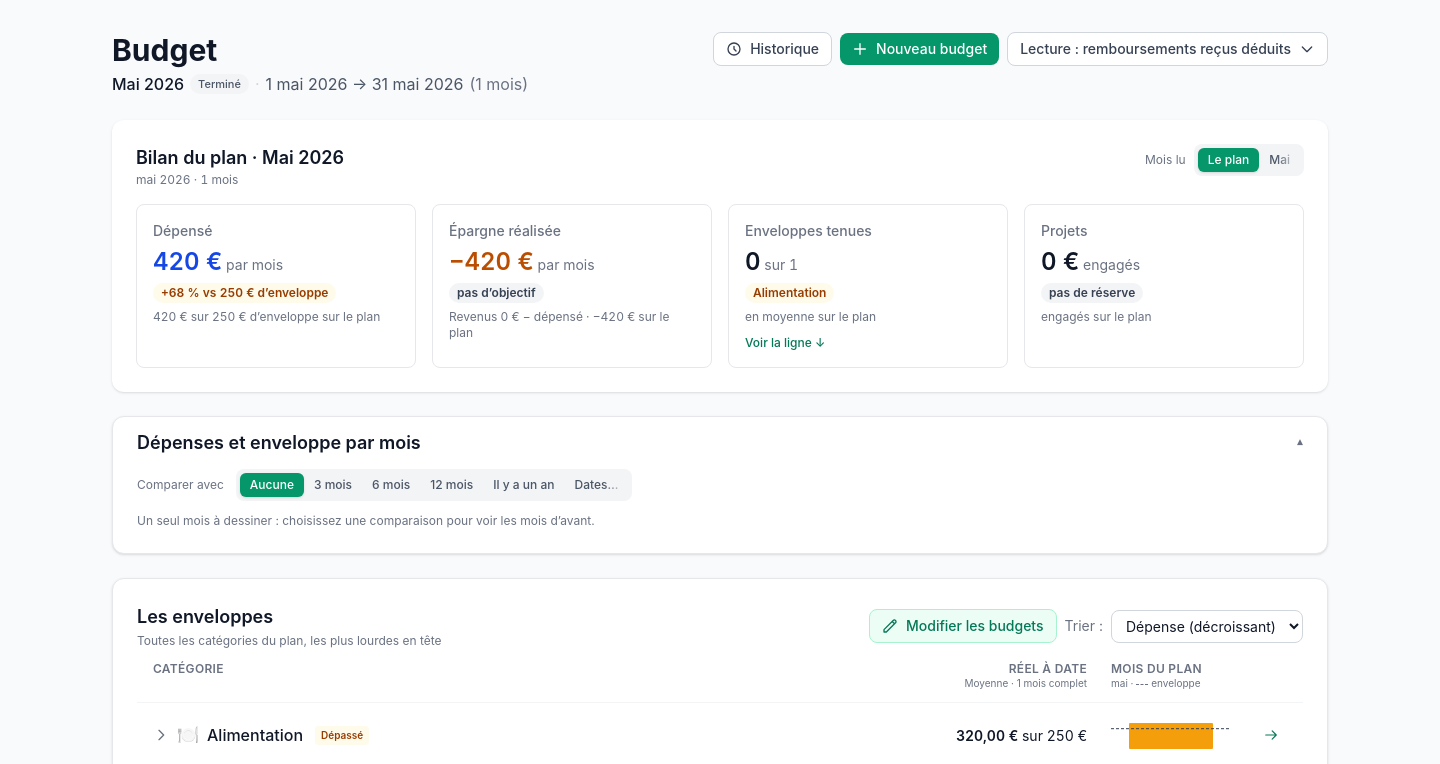
Scenario: BudgetPage › editing budgets › blocks plan switching while a draft is open
Click the button with test id "budget-edit-button": x=963, y=626 [869, 609, 1056, 643]
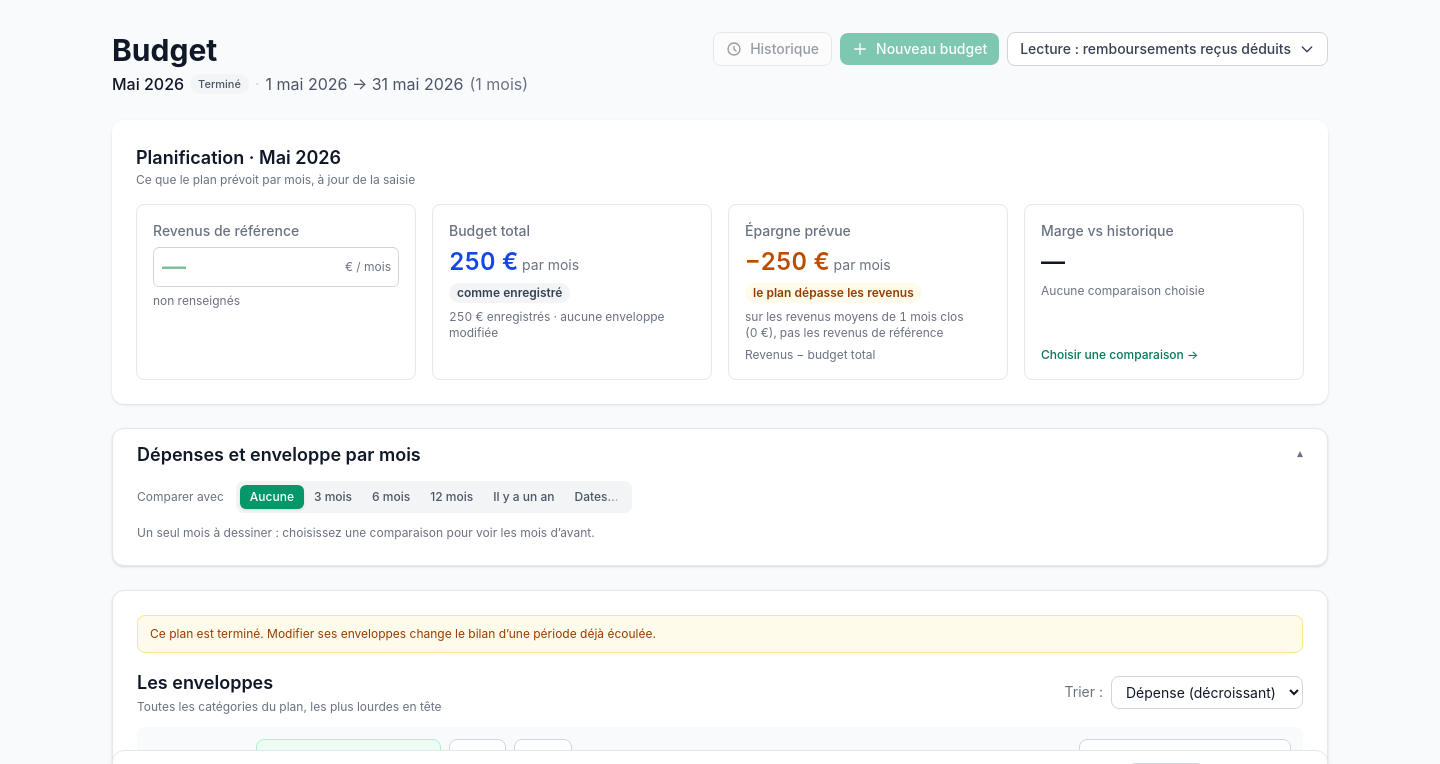
Result: the button with test id "header-history-button" is disabled at [713, 32, 832, 66]
Result: the button with test id "header-new-plan-button" is disabled at [840, 33, 999, 65]
